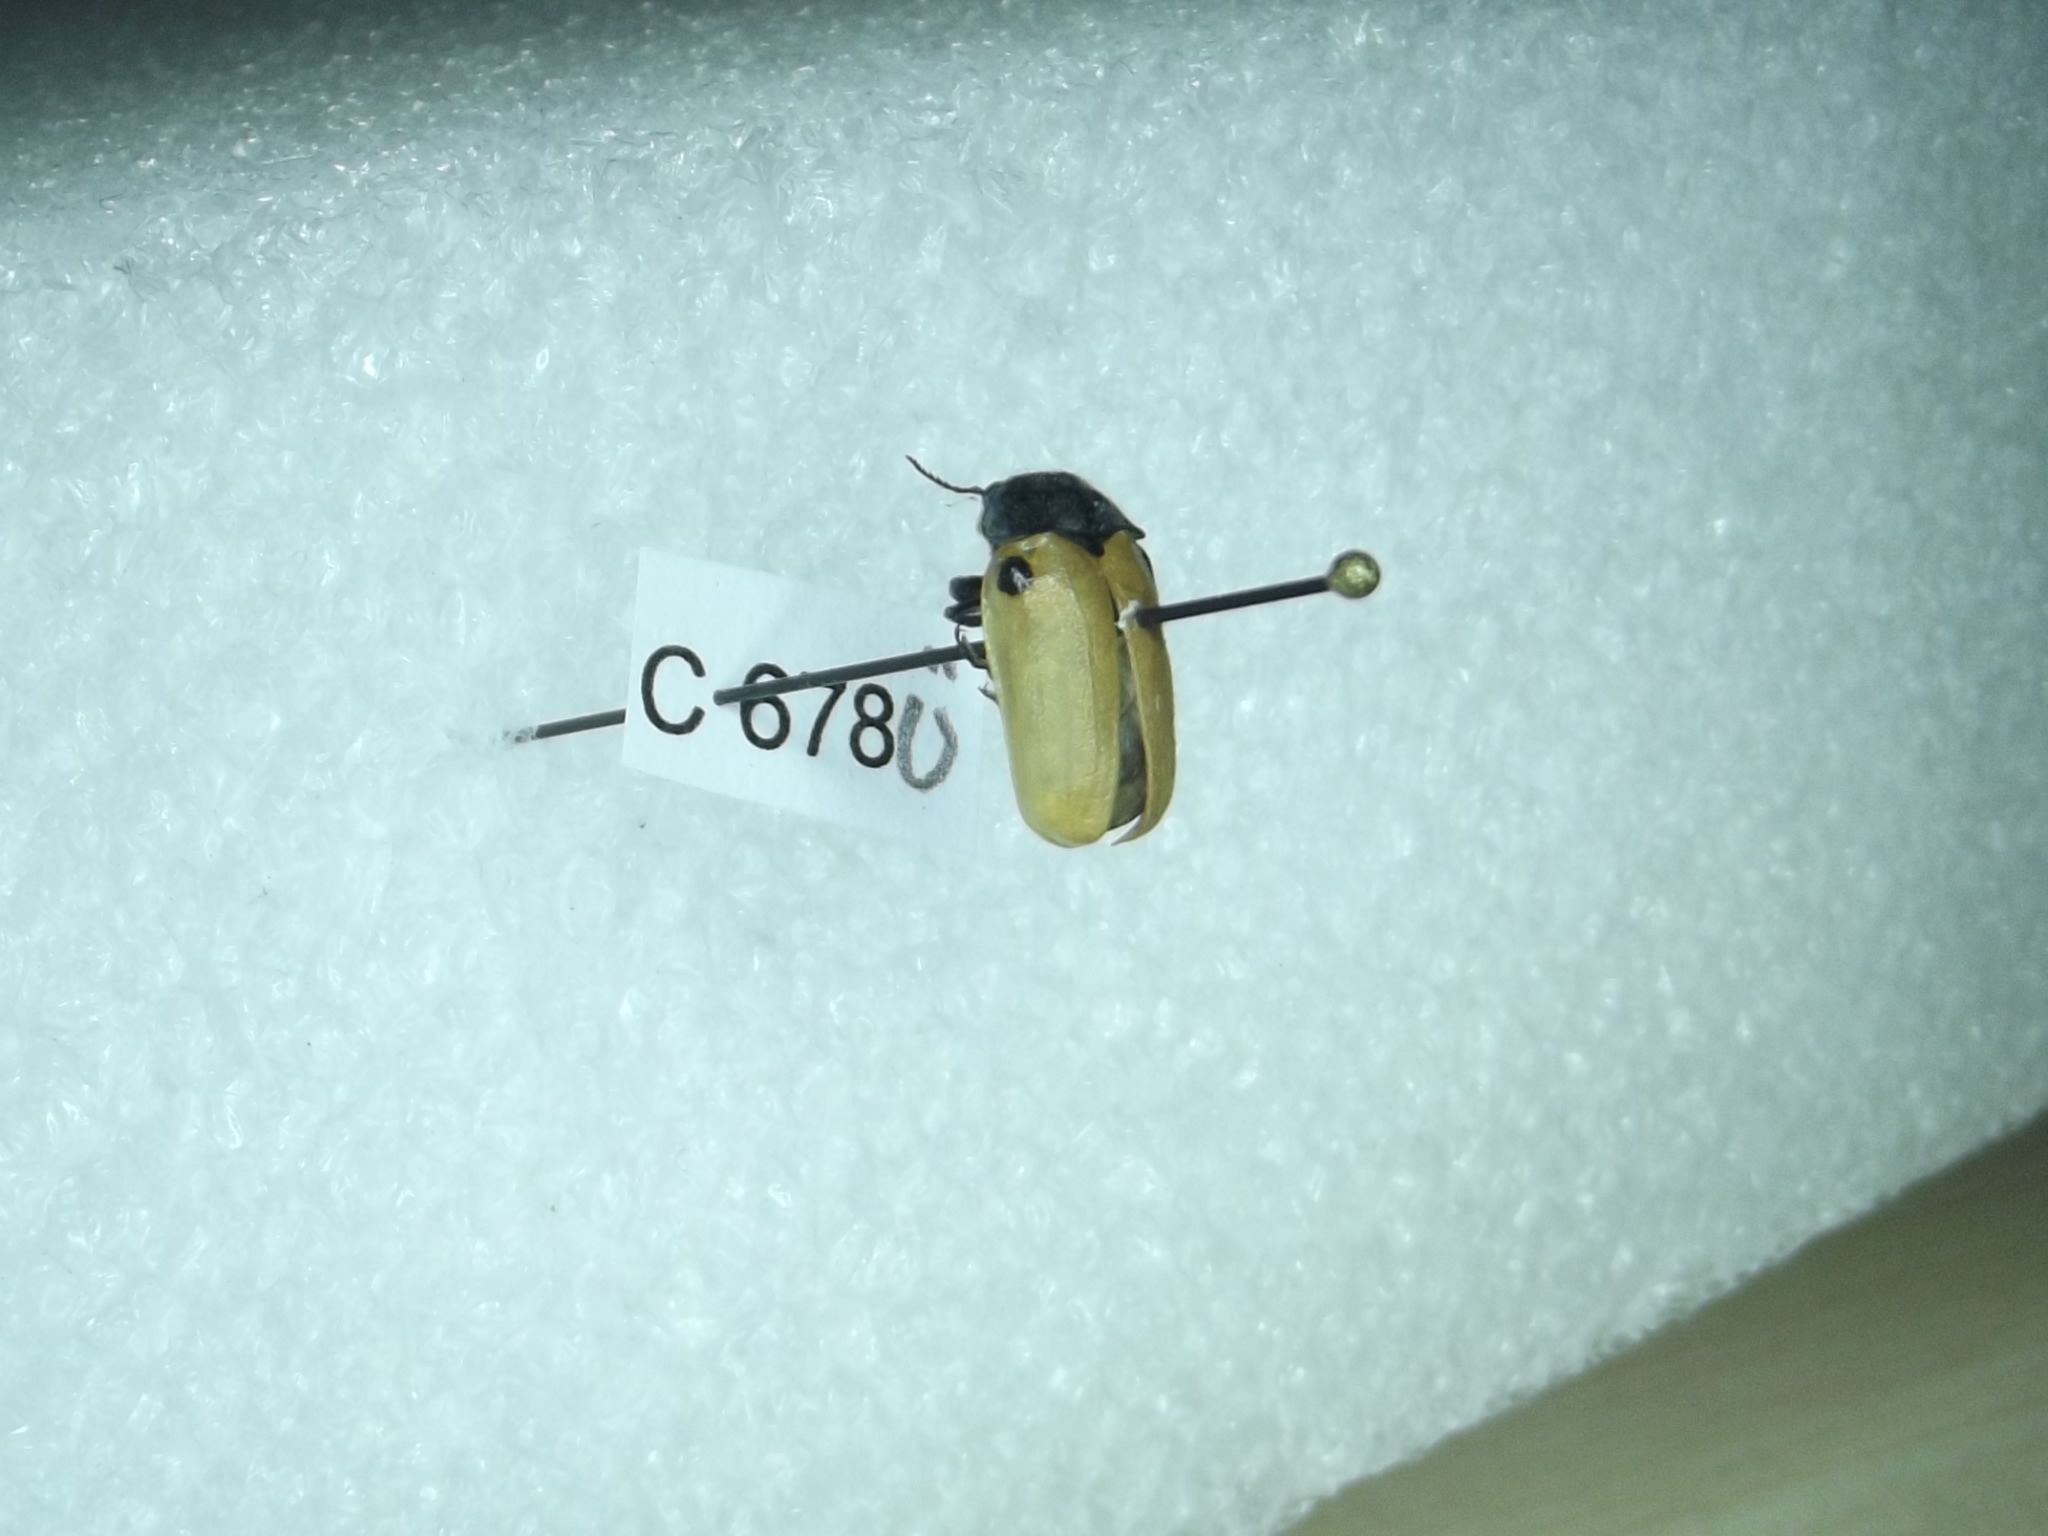Labidostomis_longimana: (885, 440, 1190, 865)
